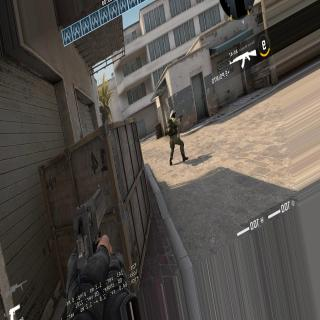CT-Body: (165, 108, 182, 160)
CT-Head: (171, 108, 177, 118)
